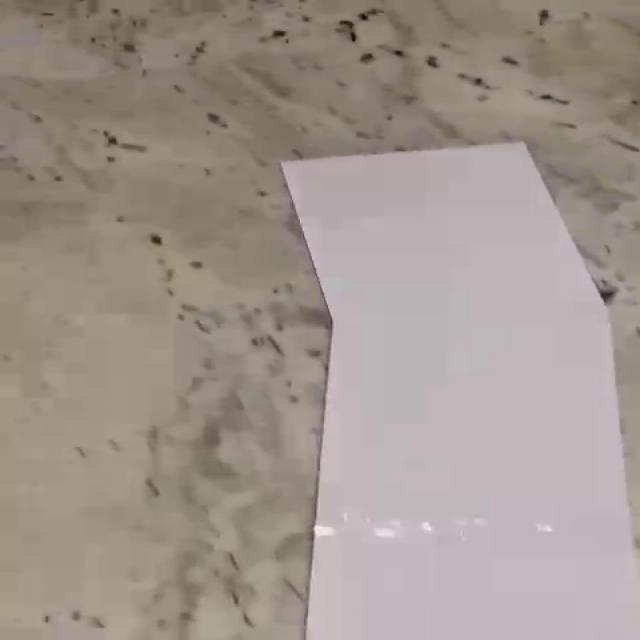road: (284, 143, 639, 640)
